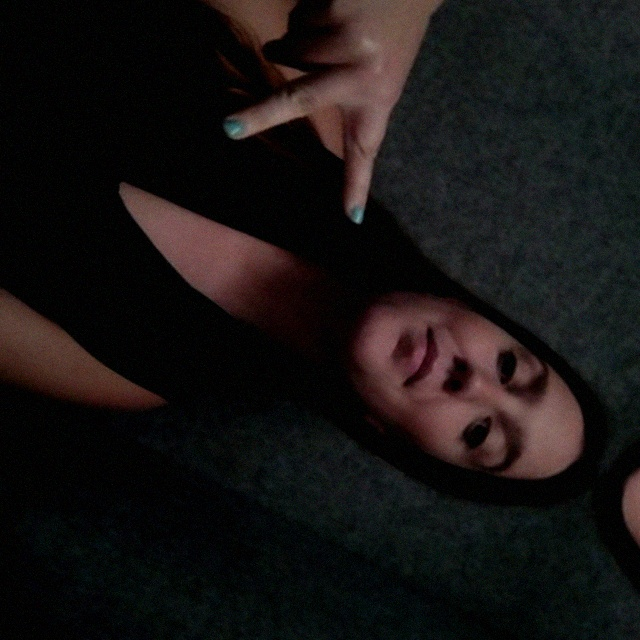Scissors: (186, 0, 479, 242)
